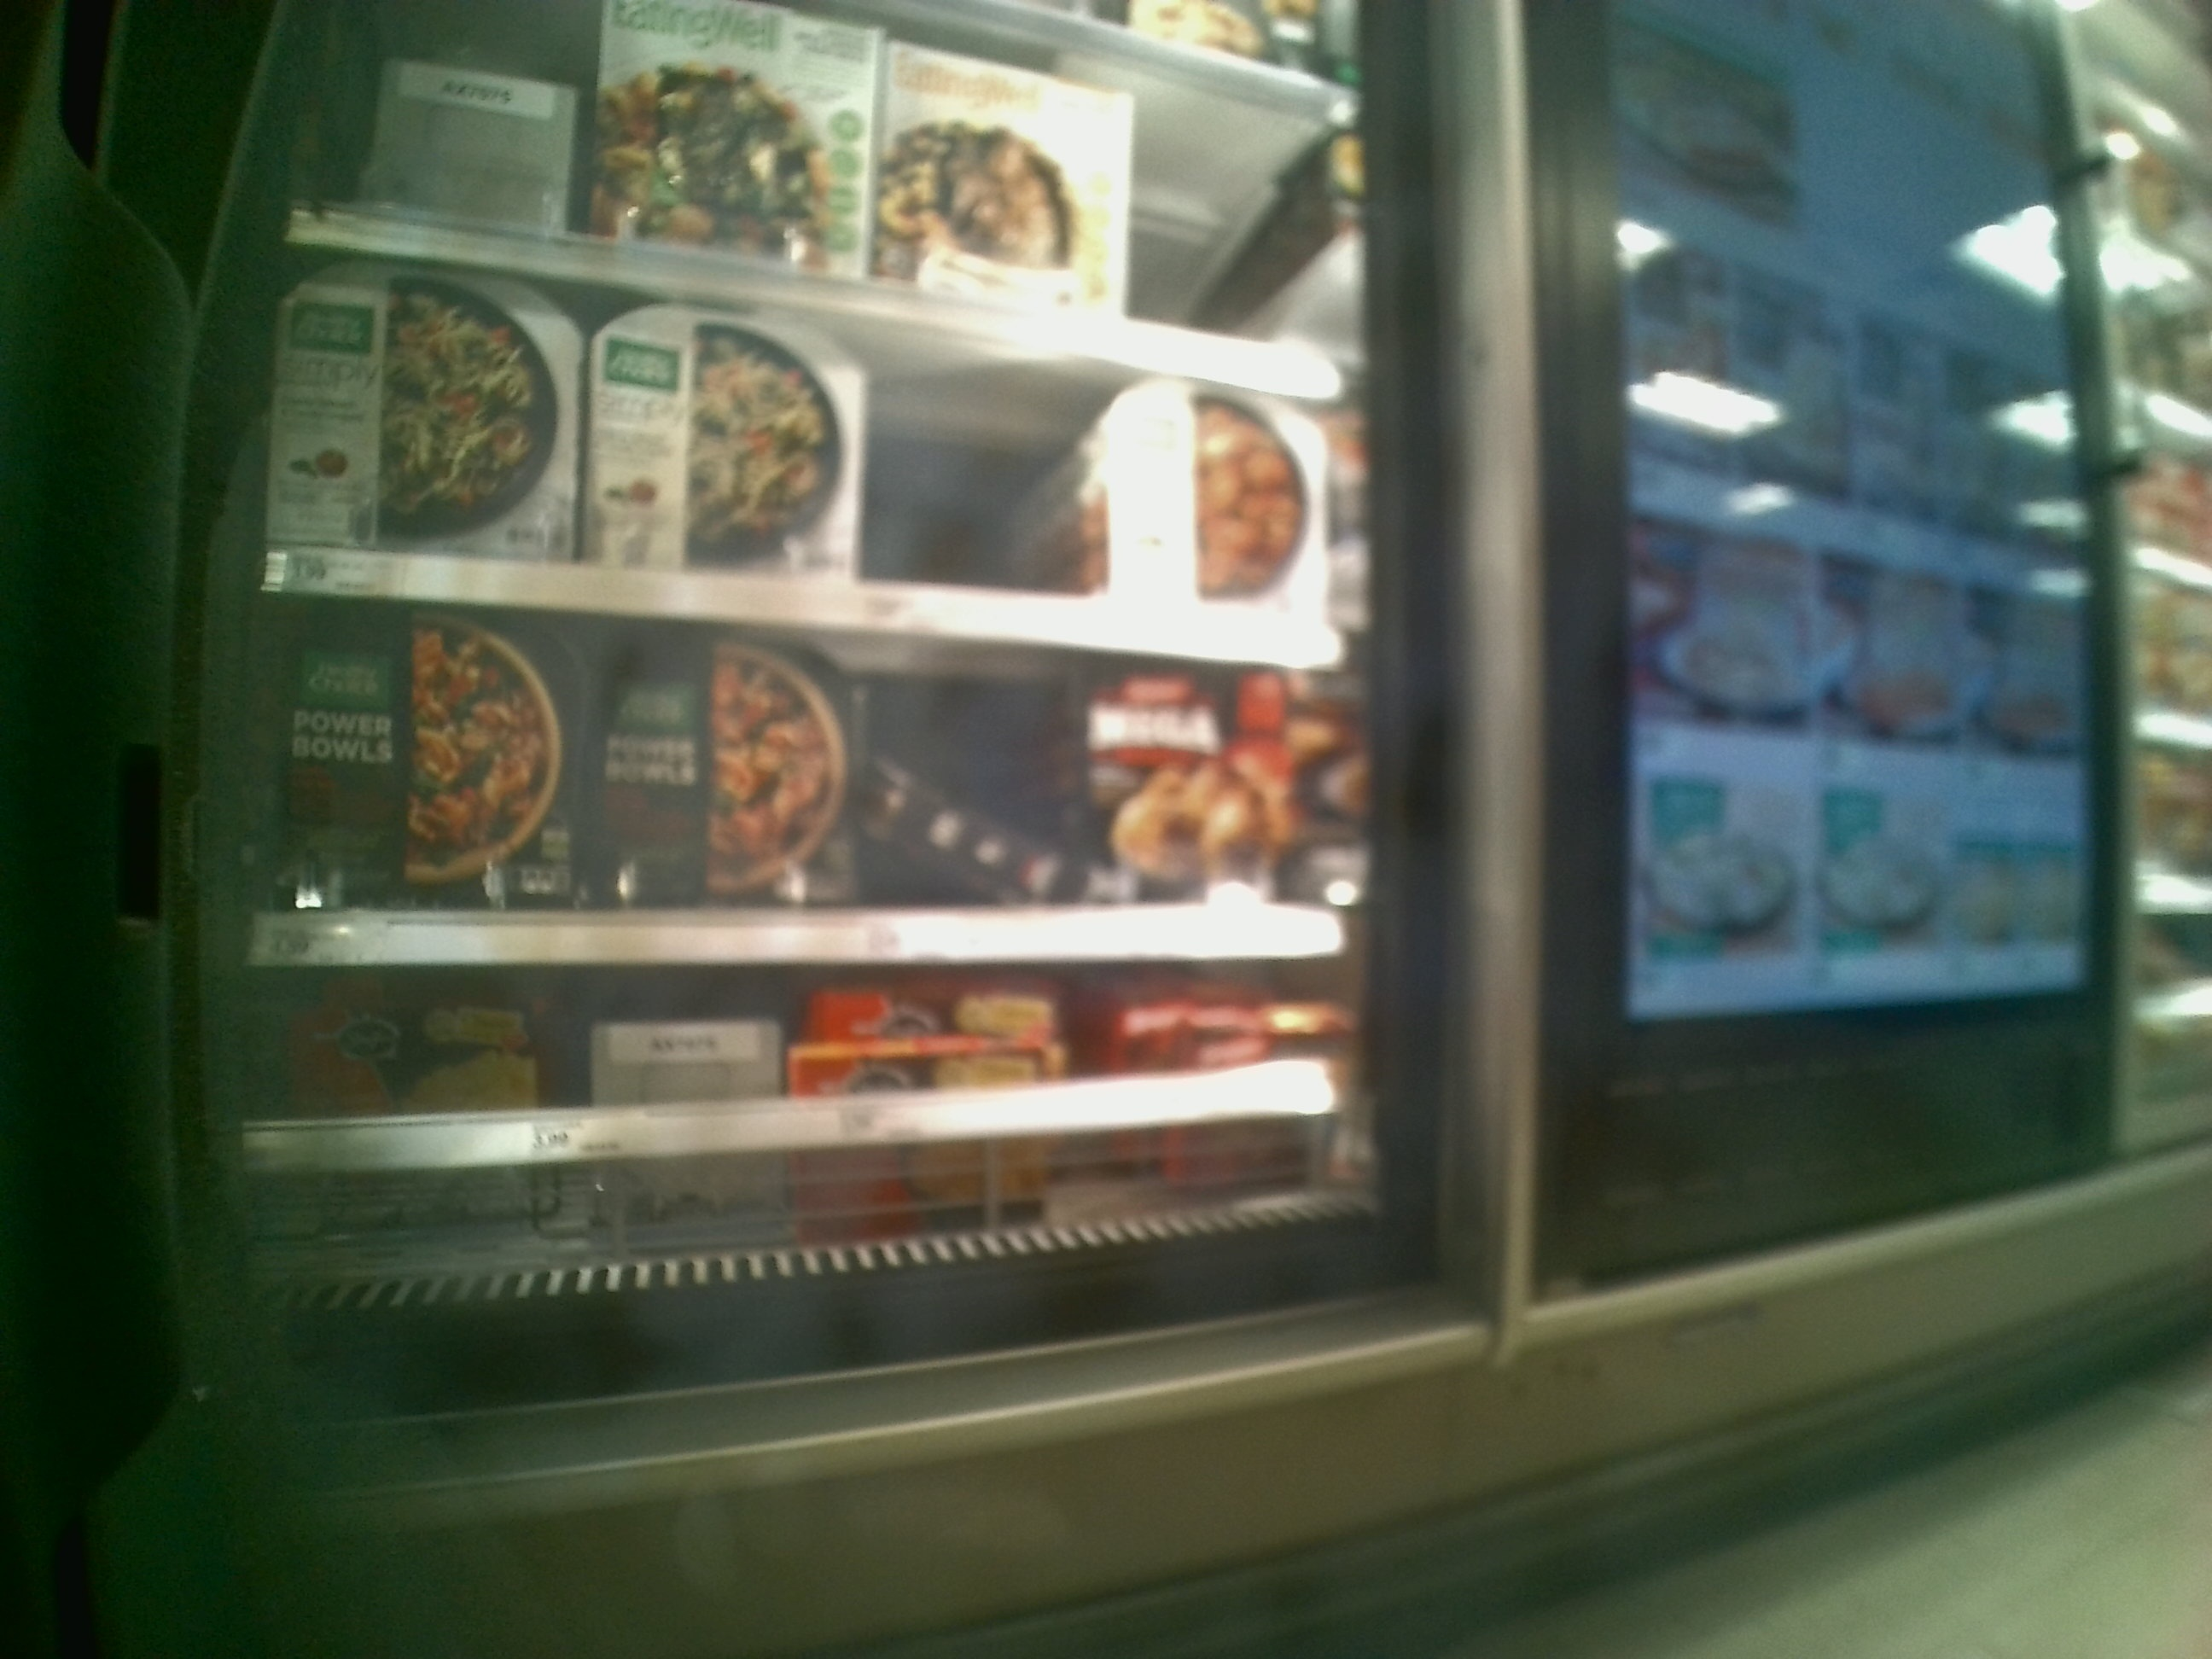shelf: (206, 969, 1430, 1321), (235, 587, 1355, 958)
